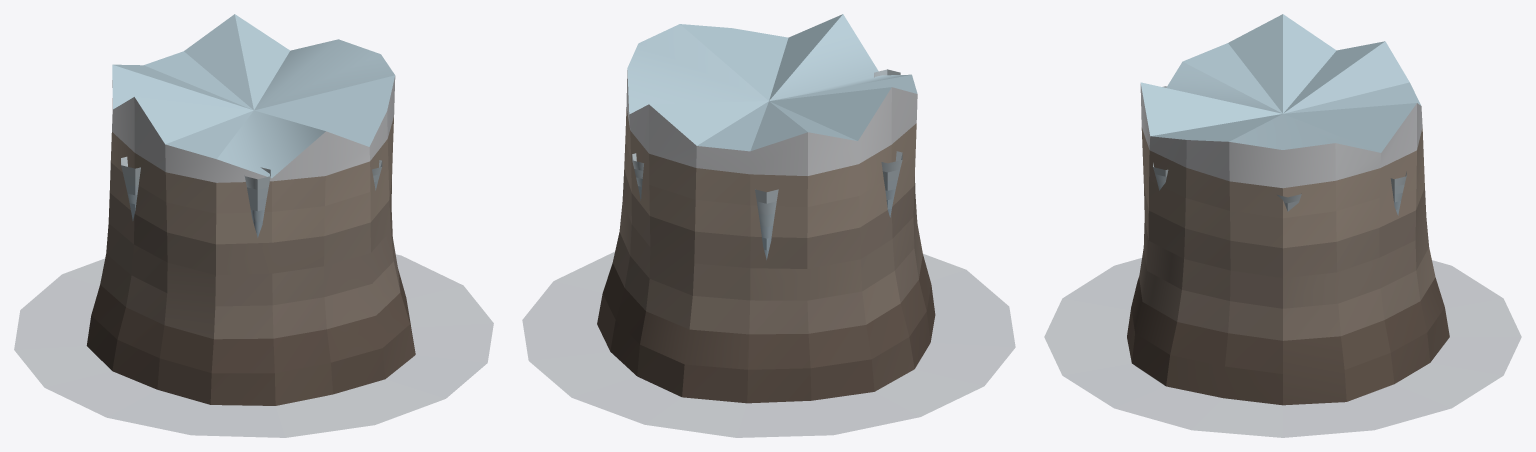
Rendered from Ice_Stump.glb.
The picture shows the model from 3 angles, left to right: view 1: azimuth 30°, elevation 25°; view 2: azimuth 150°, elevation 25°; view 3: azimuth 270°, elevation 25°; orthographic projection. The views are drawn at different scales.
Visible parts, largest first — view 1: Ice_Stump_Merged; view 2: Ice_Stump_Merged; view 3: Ice_Stump_Merged.
Boxes of the visible parts, x1,y1,x2,y2 form: Ice_Stump_Merged: (14, 14, 493, 437); Ice_Stump_Merged: (522, 14, 1015, 437); Ice_Stump_Merged: (1044, 14, 1521, 437).
Bounding box in the file's own units: 1.53 × 0.9394 × 1.53.
